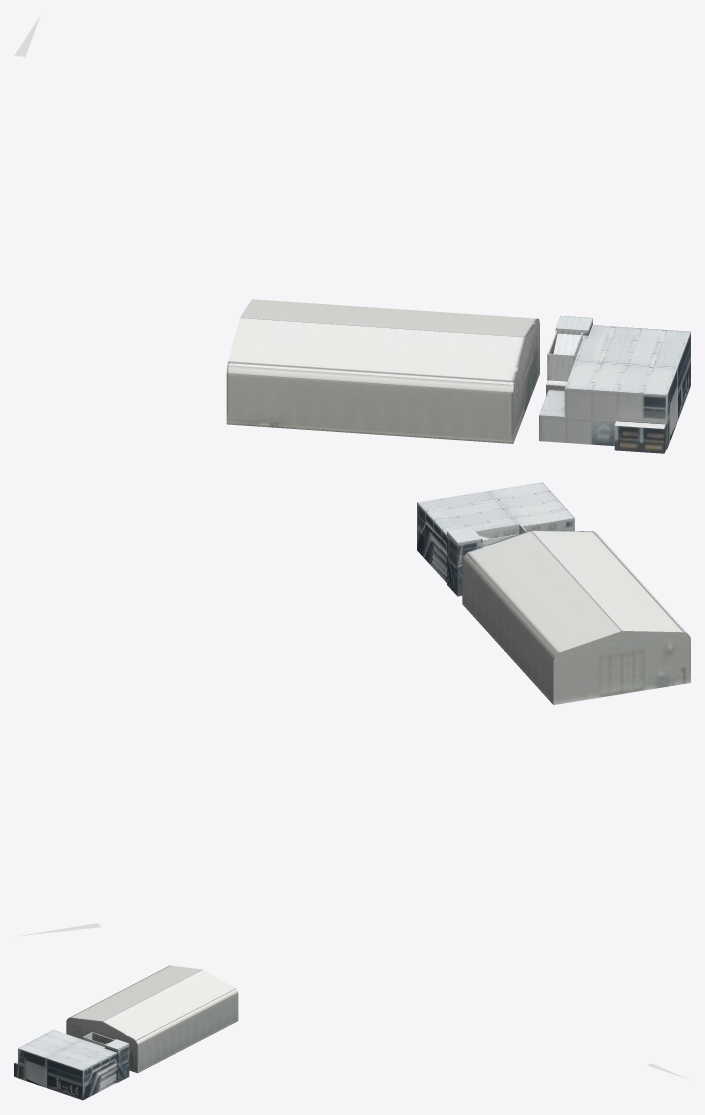
3 renders of one model, top to bottom at view 1: azimuth 30°, elevation 25°; view 2: azimuth 150°, elevation 25°; view 3: azimuth 270°, elevation 25°, orthographic. The views are drawn at different scales.
Visible parts, largest first — view 1: Buildings_建物パビリオン; view 2: Buildings_建物パビリオン; view 3: Buildings_建物パビリオン.
Part boxes in pixels (box(x1,y1,x2,y2)): Buildings_建物パビリオン: box(14, 15, 690, 453); Buildings_建物パビリオン: box(16, 482, 690, 936); Buildings_建物パビリオン: box(14, 965, 688, 1100).
Bounding box in the file's own units: 40.3 × 8.13 × 111.
Materials: 3 (2 with a texture image).
